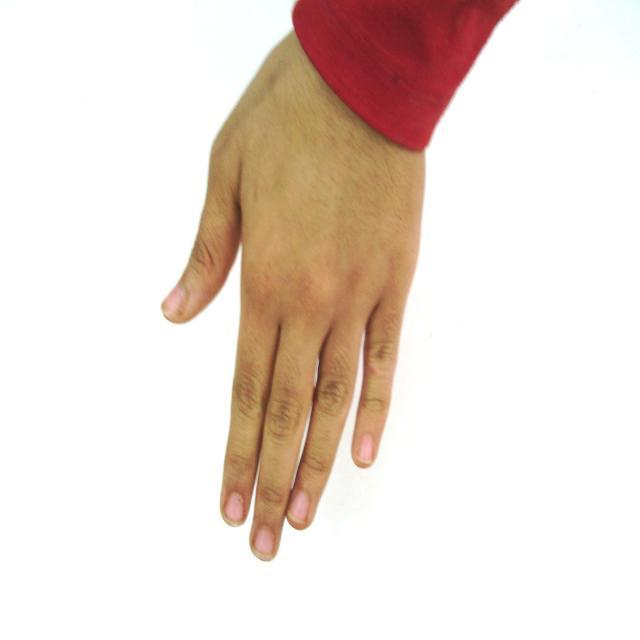Fingernail: (290, 491, 309, 526), (163, 285, 185, 315), (255, 527, 275, 559), (226, 493, 244, 523), (359, 434, 373, 462)
